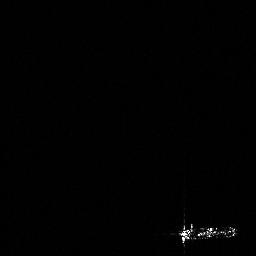ship: (179, 223, 238, 243)
